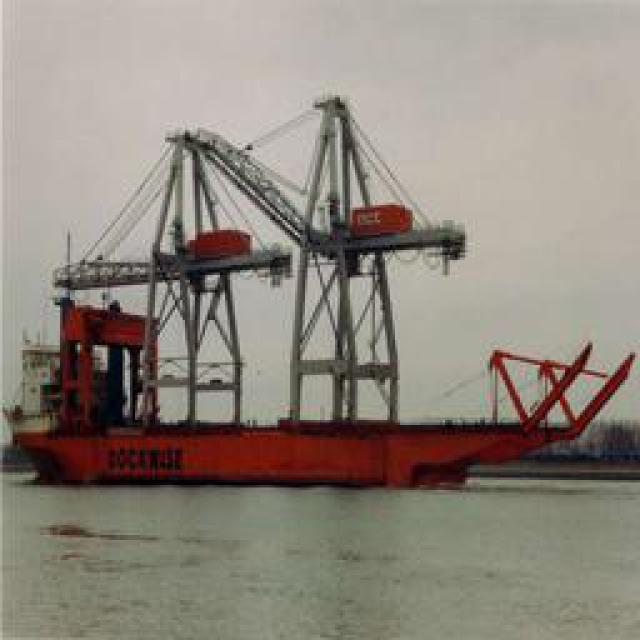Ship: (21, 98, 624, 483)
